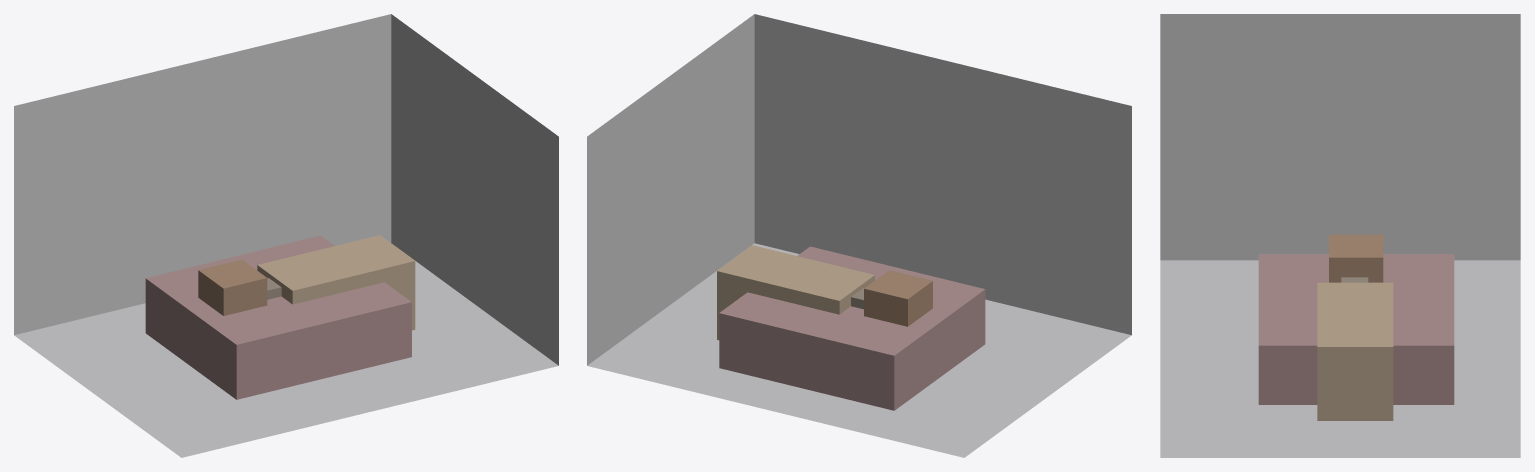
The model's file is current_layout.glb.
3 renders of one model, left to right at view 1: azimuth 30°, elevation 25°; view 2: azimuth 150°, elevation 25°; view 3: azimuth 270°, elevation 25°, orthographic. The views are drawn at different scales.
Parts seen in each view (by area): view 1: room, bed, desk, chair; view 2: room, bed, desk, chair; view 3: room, bed, desk, chair.
Boxes of the visible parts, x1,y1,x2,y2 form: room: (14,14,558,457); bed: (145,235,411,399); desk: (257,235,415,330); chair: (198,259,267,315); room: (587,14,1131,457); bed: (719,246,985,410); desk: (717,245,874,340); chair: (864,270,932,326); room: (1160,14,1520,457); bed: (1258,254,1454,404); desk: (1317,282,1393,420); chair: (1329,234,1383,282).
Size of the model in its own units: 4.31 by 2.5 by 3.31.
